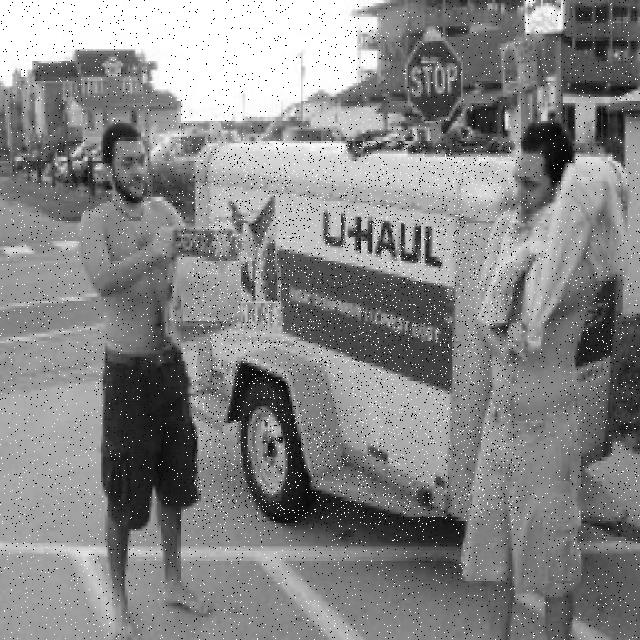Box Truck: (192, 142, 519, 525), (576, 273, 640, 546)
